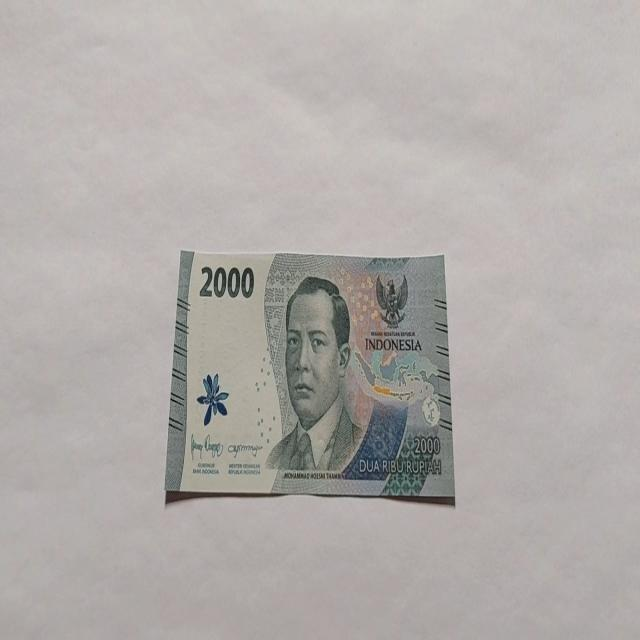dua ribu rupiah: (164, 248, 456, 505), (264, 274, 366, 480)
